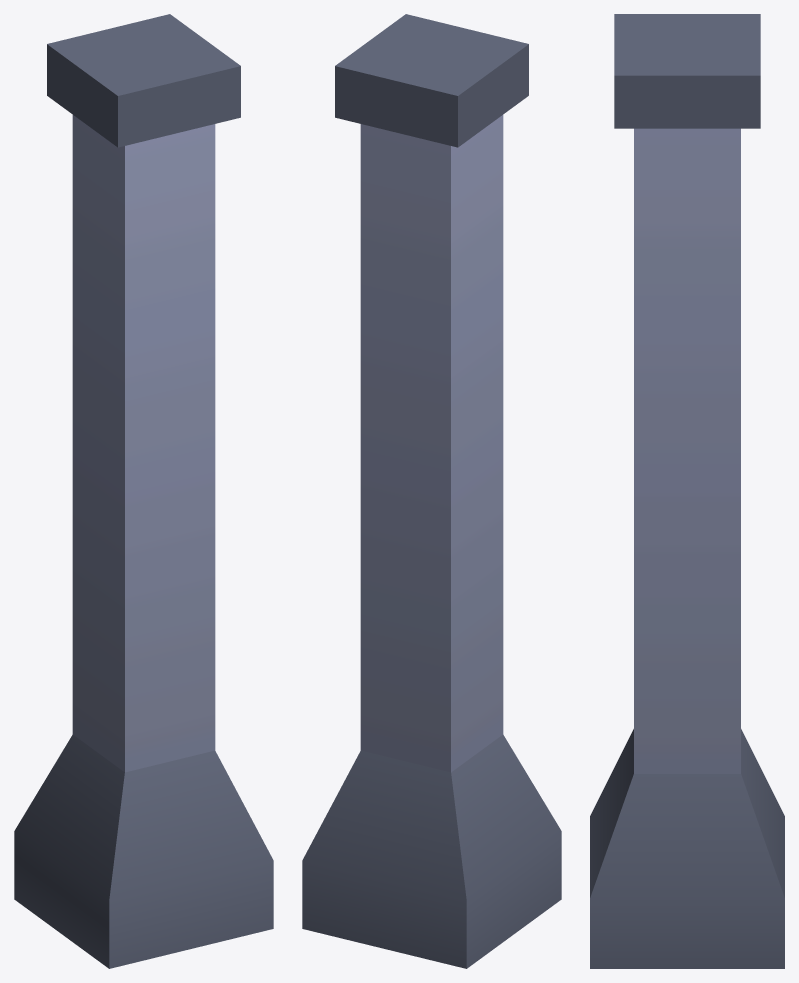
The model's file is bridge-pillar.glb.
3 renders of one model, left to right at view 1: azimuth 30°, elevation 25°; view 2: azimuth 150°, elevation 25°; view 3: azimuth 270°, elevation 25°, orthographic. The views are drawn at different scales.
Parts seen in each view (by area): view 1: bridge-pillar; view 2: bridge-pillar; view 3: bridge-pillar.
Boxes of the visible parts, x1,y1,x2,y2 form: bridge-pillar: (14, 14, 273, 968); bridge-pillar: (302, 14, 561, 968); bridge-pillar: (590, 14, 784, 968).
Size of the model in its own units: 0.1 by 0.5 by 0.1.
1 material, 1 textured.
